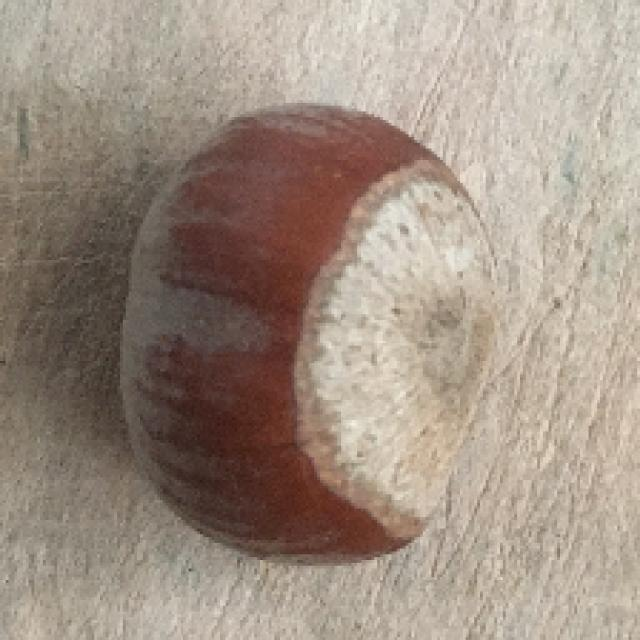QualityHazelnut: (117, 98, 509, 567)
